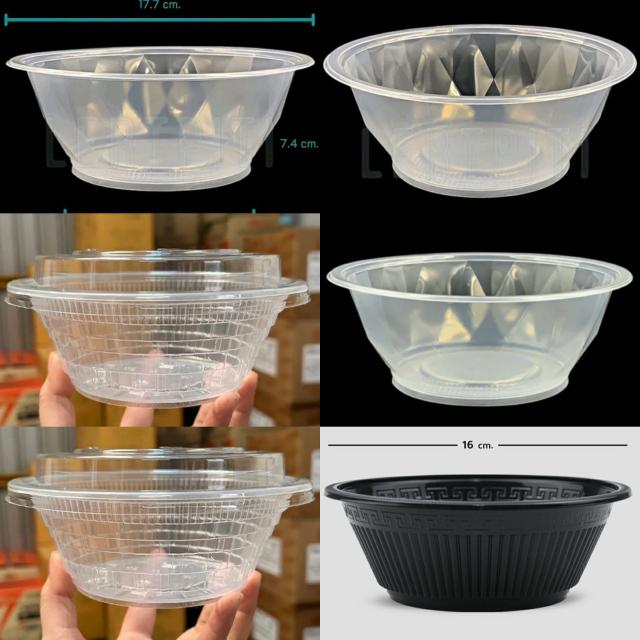Single-Use-Plastic: (324, 25, 635, 198), (8, 448, 313, 608), (8, 250, 309, 406), (328, 252, 632, 406), (8, 46, 314, 191), (325, 475, 630, 611)
